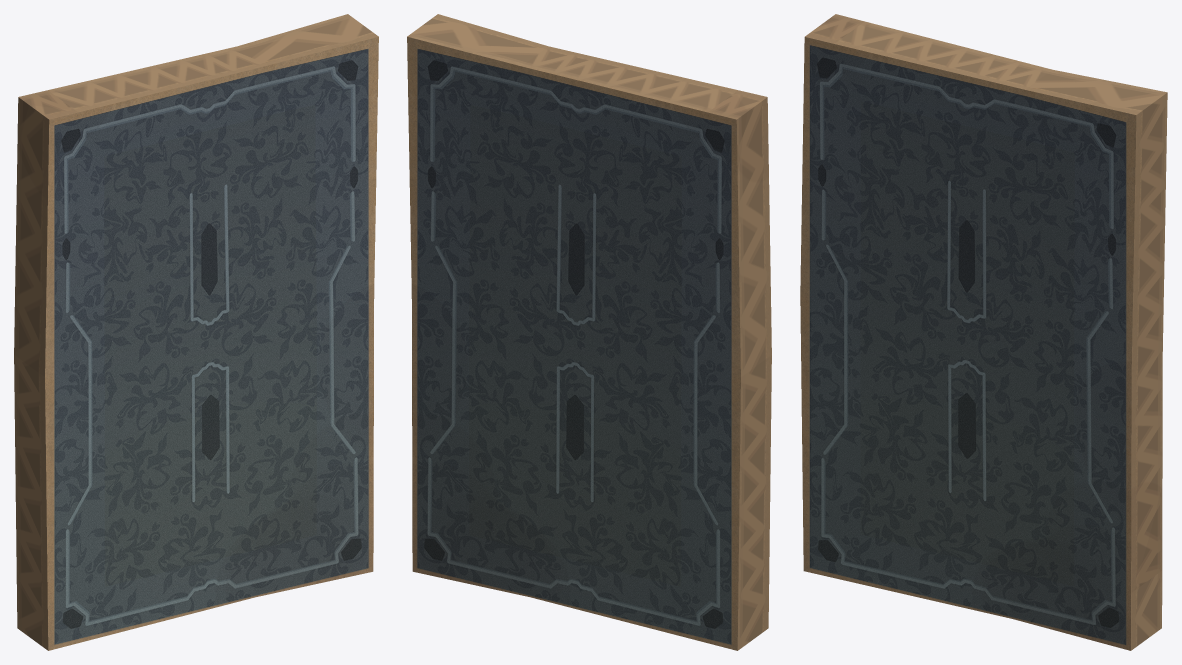
The model's file is SM_Ceiling_02.fbx.
3 views of the same model, side by side, from view 1: azimuth 30°, elevation 25°; view 2: azimuth 150°, elevation 25°; view 3: azimuth 330°, elevation 25° (orthographic).
Visible parts, largest first — view 1: Ceiling_02; view 2: Ceiling_02; view 3: Ceiling_02.
Boxes of the visible parts, x1,y1,x2,y2 form: Ceiling_02: (14,14,378,650); Ceiling_02: (407,14,771,650); Ceiling_02: (800,14,1167,650).
Bounding box in the file's own units: 815 × 1245 × 131.
